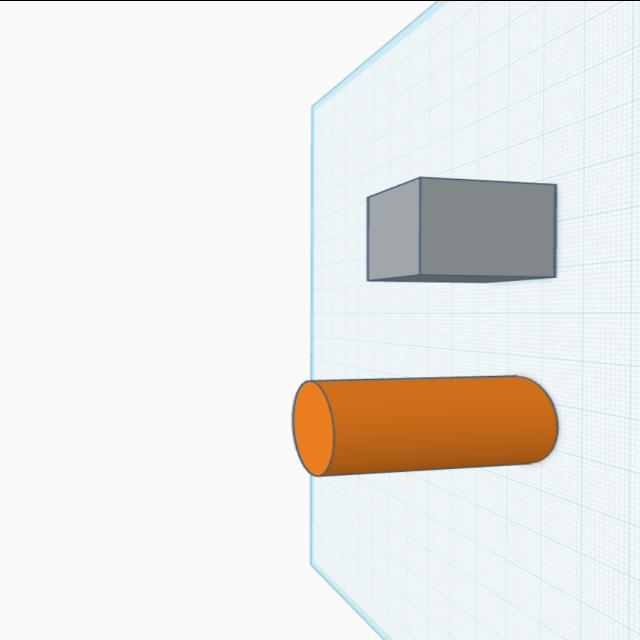cube: (362, 172, 564, 286)
